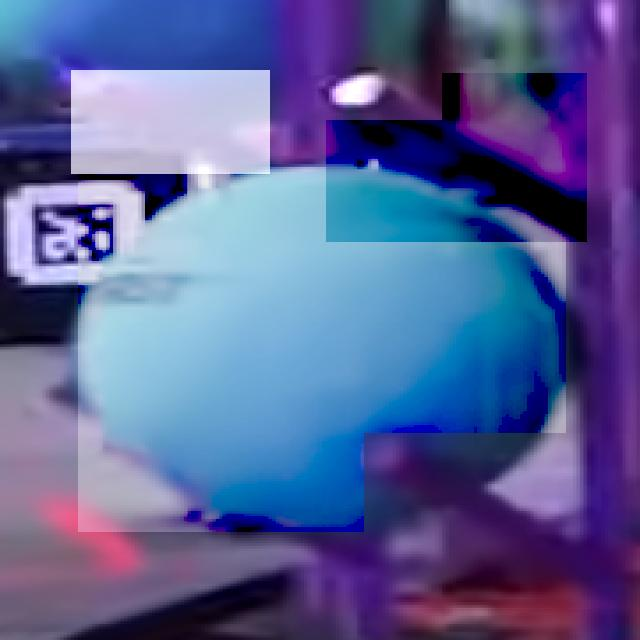Algae: (78, 167, 566, 532), (0, 0, 442, 120)
Reef: (364, 433, 630, 609), (326, 73, 587, 242), (71, 70, 270, 174)
